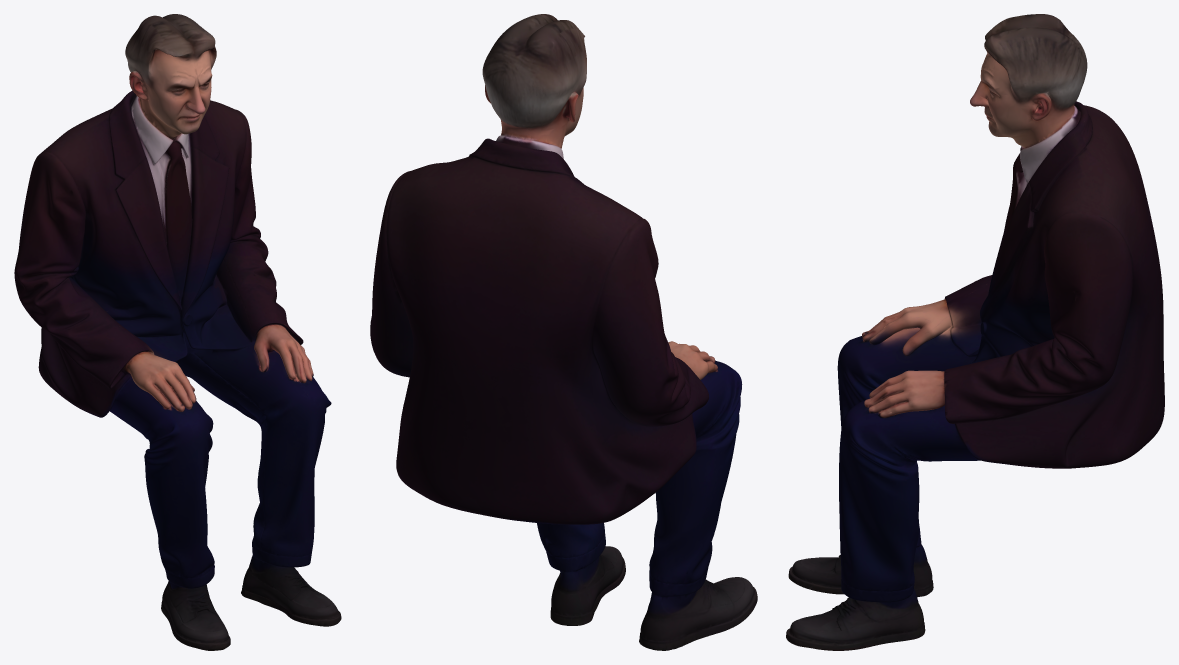
File: interviewer.glb
3 views of the same model, side by side, from view 1: azimuth 30°, elevation 25°; view 2: azimuth 150°, elevation 25°; view 3: azimuth 270°, elevation 25° (orthographic). The views are drawn at different scales.
Parts seen in each view (by area): view 1: node_0; view 2: node_0; view 3: node_0.
Part boxes in pixels (box(x1,y1,x2,y2)): node_0: box(14, 14, 341, 650); node_0: box(370, 14, 757, 650); node_0: box(786, 14, 1164, 650).
Size of the model in its own units: 0.4824 by 1.03 by 0.5936.
1 material, 1 textured.
